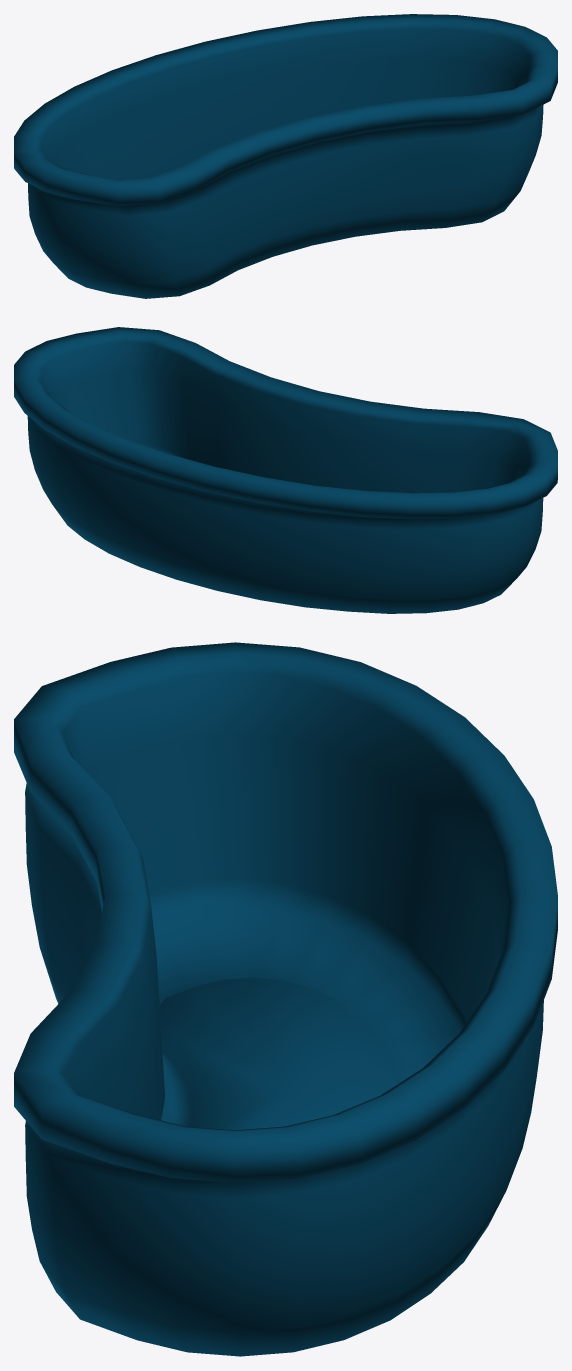
Rendered from Kidneydish_Blue.fbx.
3 views of the same model, one above another, from view 1: azimuth 30°, elevation 25°; view 2: azimuth 150°, elevation 25°; view 3: azimuth 270°, elevation 25° (orthographic). The views are drawn at different scales.
Parts seen in each view (by area): view 1: kidneydish_Blue_Plastics; view 2: kidneydish_Blue_Plastics; view 3: kidneydish_Blue_Plastics.
Boxes of the visible parts, left/top/right/bottom form: kidneydish_Blue_Plastics: left=14, top=14, right=557, bottom=298; kidneydish_Blue_Plastics: left=14, top=327, right=557, bottom=613; kidneydish_Blue_Plastics: left=14, top=642, right=557, bottom=1356.
Bounding box in the file's own units: 25.94 × 6.09 × 11.76.
